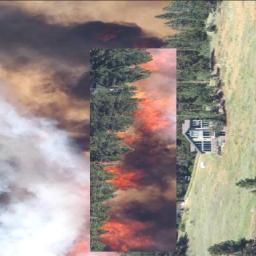Heavy smoke: (0, 0, 91, 199), (139, 51, 170, 254)
Medium fire: (95, 48, 166, 255)
